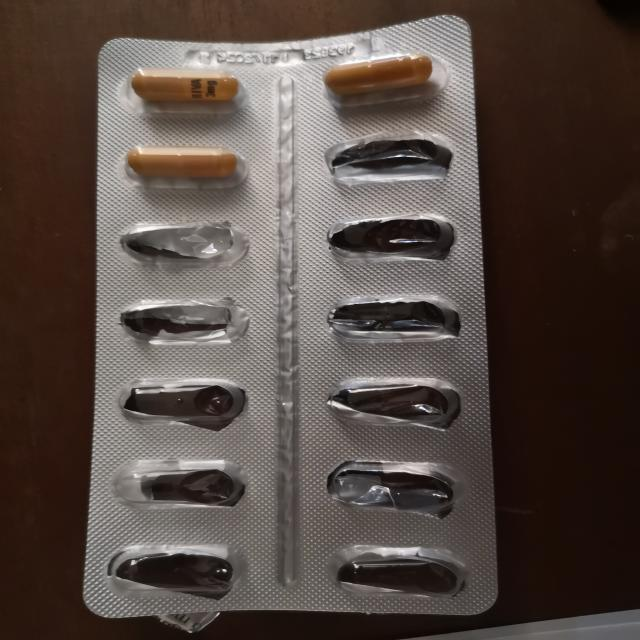Empty: (320, 456, 457, 518), (100, 542, 244, 600), (110, 214, 254, 272), (323, 288, 466, 346), (322, 544, 470, 600), (322, 373, 464, 431), (107, 456, 254, 512), (115, 373, 256, 431), (111, 294, 256, 348), (316, 129, 455, 185), (321, 210, 458, 262)
Pill: (119, 139, 250, 191), (120, 63, 246, 114), (316, 52, 446, 101)
